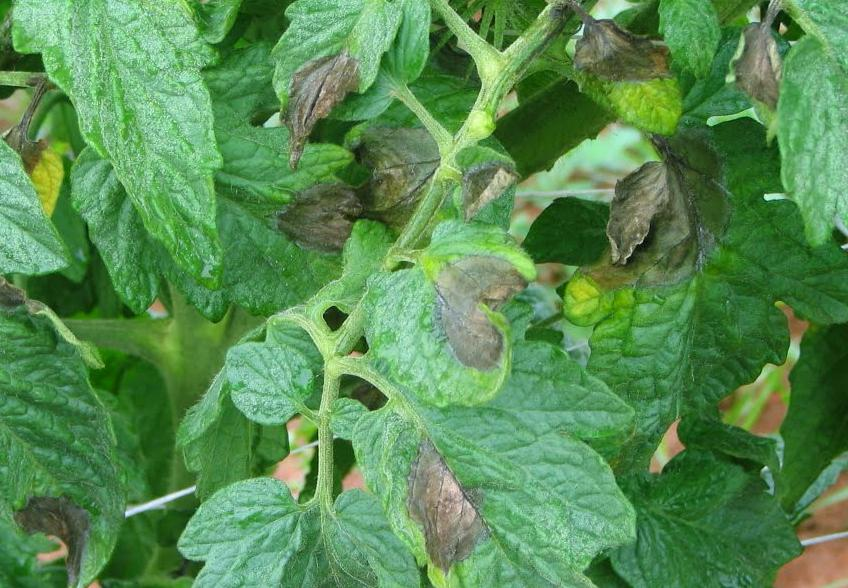Tomato leaf late blight: (579, 92, 848, 456), (347, 335, 641, 588), (360, 234, 537, 407), (566, 0, 691, 151), (279, 0, 399, 154)
